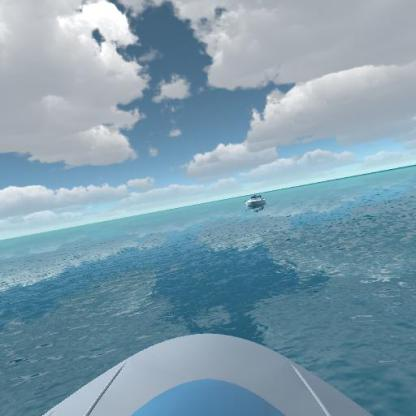usv1: (239, 189, 266, 214)
